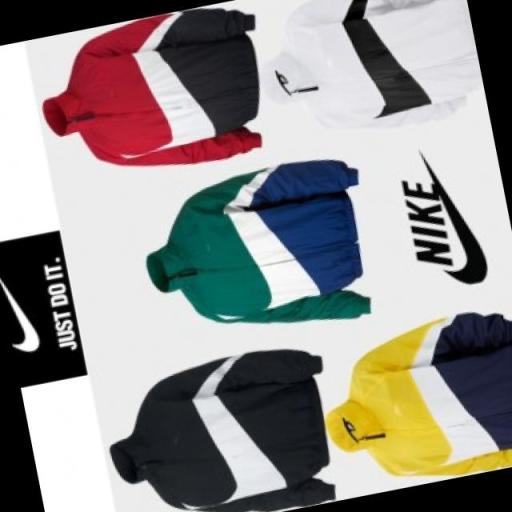Nike: (399, 174, 455, 274), (0, 262, 46, 358)
